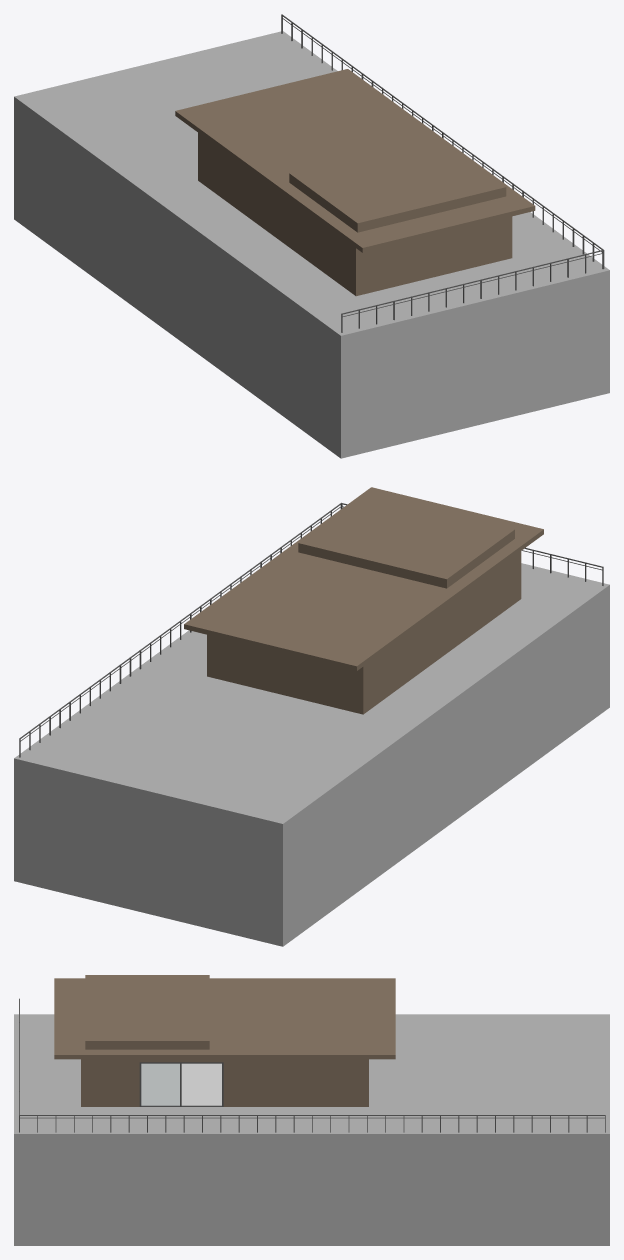
Rendered from villa_A.fbx.
3 renders of one model, top to bottom at view 1: azimuth 30°, elevation 25°; view 2: azimuth 150°, elevation 25°; view 3: azimuth 270°, elevation 25°, orthographic. The views are drawn at different scales.
Parts seen in each view (by area): view 1: villa_A_terrace_ground, villa_A_roof_big, villa_A_room, villa_A_roof_small, villa_A_terrace_rail_big, villa_A_terrace_rail_medium; view 2: villa_A_terrace_ground, villa_A_roof_big, villa_A_room, villa_A_roof_small, villa_A_terrace_rail_big; view 3: villa_A_terrace_ground, villa_A_roof_big, villa_A_room, villa_A_roof_small, villa_A_terrace_rail_big, villa_A_glass_pane.
Part boxes in pixels (left/top/right/bottom): villa_A_terrace_ground: left=14, top=31, right=609, bottom=458; villa_A_roof_big: left=175, top=69, right=535, bottom=252; villa_A_room: left=198, top=133, right=512, bottom=296; villa_A_roof_small: left=289, top=137, right=506, bottom=232; villa_A_terrace_rail_big: left=281, top=14, right=604, bottom=268; villa_A_terrace_rail_medium: left=341, top=250, right=603, bottom=332; villa_A_terrace_ground: left=14, top=563, right=609, bottom=946; villa_A_roof_big: left=184, top=487, right=543, bottom=671; villa_A_room: left=207, top=551, right=521, bottom=714; villa_A_roof_small: left=298, top=493, right=514, bottom=588; villa_A_terrace_rail_big: left=19, top=502, right=341, bottom=757; villa_A_terrace_ground: left=14, top=1014, right=609, bottom=1245; villa_A_roof_big: left=54, top=978, right=395, bottom=1059; villa_A_room: left=81, top=1059, right=368, bottom=1106; villa_A_roof_small: left=85, top=975, right=209, bottom=1049; villa_A_terrace_rail_big: left=19, top=1115, right=605, bottom=1132; villa_A_glass_pane: left=142, top=1064, right=179, bottom=1105.
Bounding box in the file's own units: 1422 × 976 × 2994.
